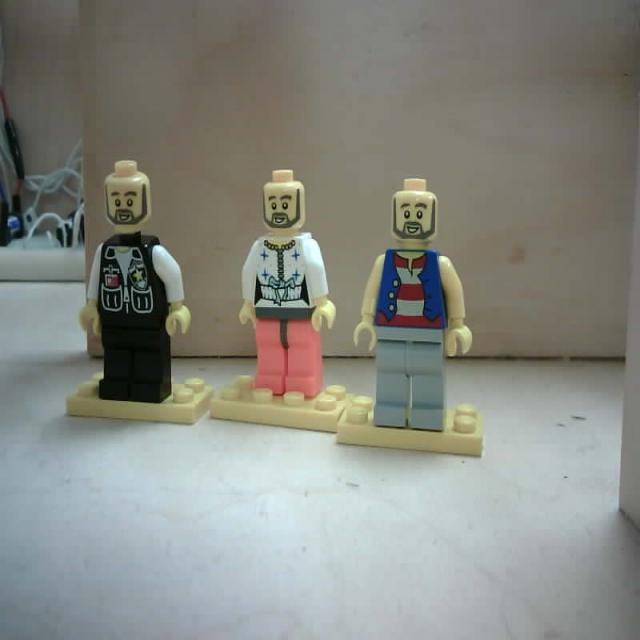Lego-People: (332, 176, 492, 464), (208, 168, 362, 440), (64, 158, 214, 431)
